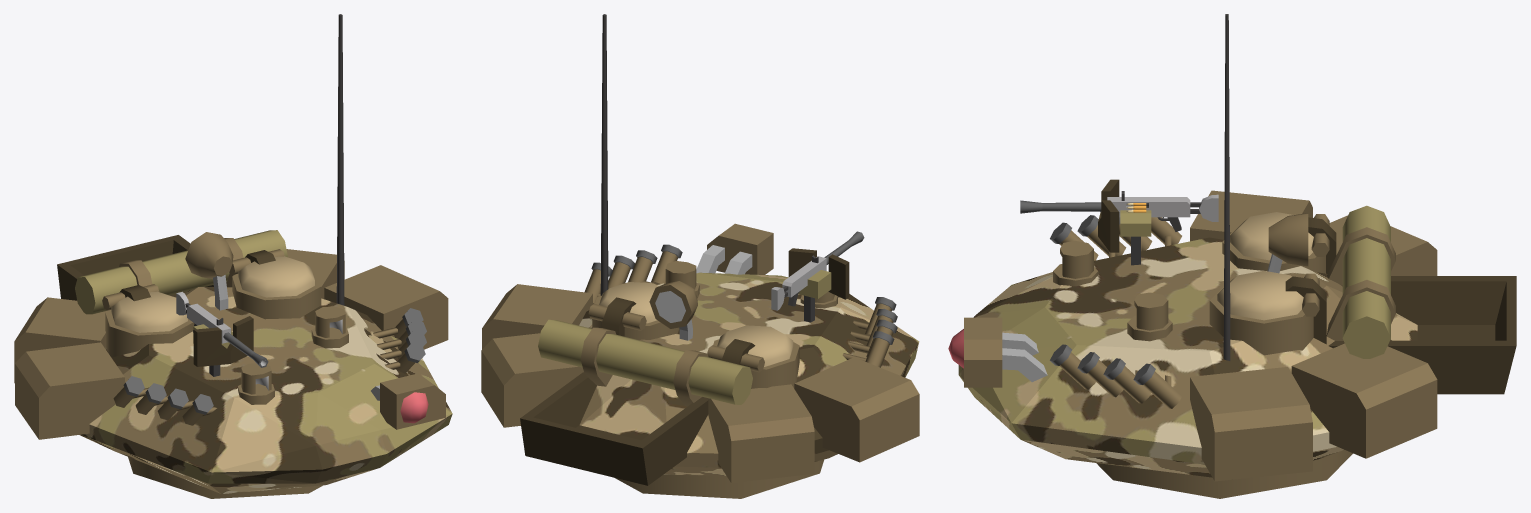
File: tank_tower.fbx
The picture shows the model from 3 angles, left to right: view 1: azimuth 30°, elevation 25°; view 2: azimuth 150°, elevation 25°; view 3: azimuth 270°, elevation 25°; orthographic projection. The views are drawn at different scales.
Parts seen in each view (by area): view 1: tank_tower_001; view 2: tank_tower_001; view 3: tank_tower_001.
Part boxes in pixels (left/top/right/bottom): tank_tower_001: left=14, top=14, right=452, bottom=498; tank_tower_001: left=481, top=14, right=919, bottom=498; tank_tower_001: left=948, top=14, right=1516, bottom=498.
Bounding box in the file's own units: 441 × 417 × 450.
2 materials, 2 textured.
